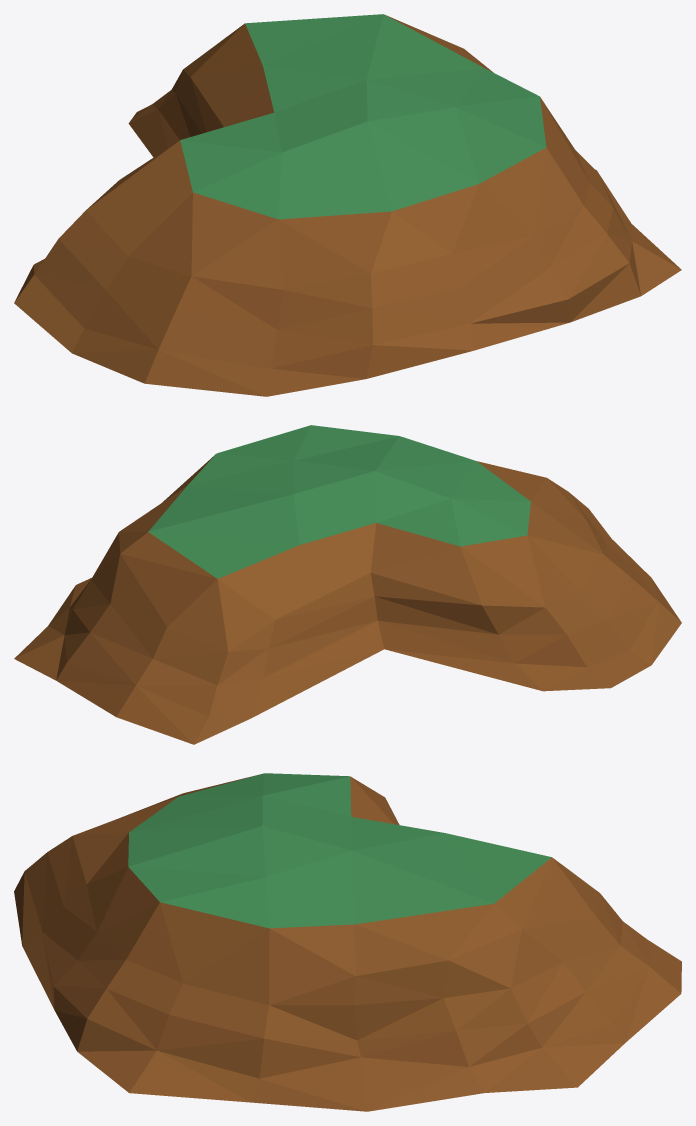
File: forest_relief_3.fbx
The picture shows the model from 3 angles, top to bottom: view 1: azimuth 30°, elevation 25°; view 2: azimuth 150°, elevation 25°; view 3: azimuth 270°, elevation 25°; orthographic projection. The views are drawn at different scales.
Visible parts, largest first — view 1: Icosphere.048; view 2: Icosphere.048; view 3: Icosphere.048.
Boxes of the visible parts, x1,y1,x2,y2 form: Icosphere.048: (14,14,681,396); Icosphere.048: (14,425,681,744); Icosphere.048: (14,773,681,1111).
Size of the model in its own units: 1170 by 303 by 1184.
